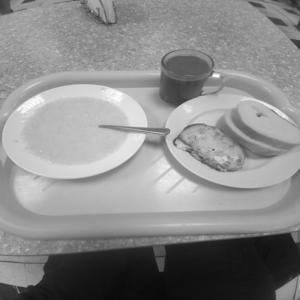bread: (224, 94, 296, 165)
cheese_sandwich: (166, 110, 249, 181)
coffee: (149, 38, 222, 122)
porridge: (16, 86, 137, 172)
